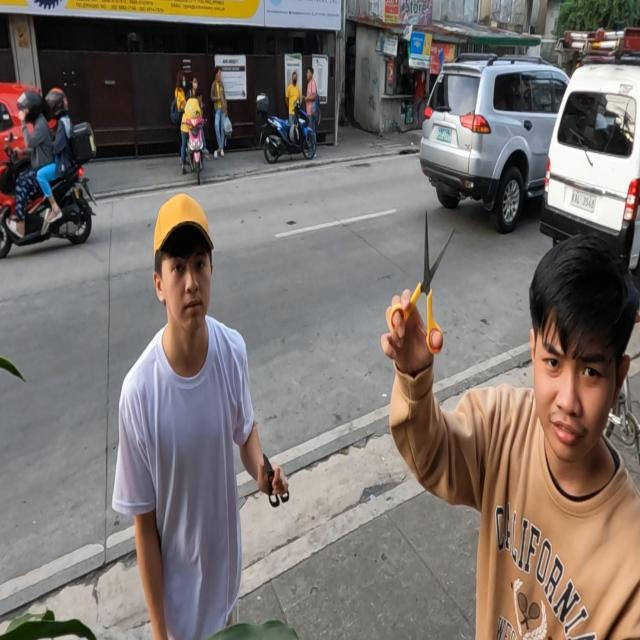scissor: (387, 211, 459, 357), (260, 449, 288, 509)
